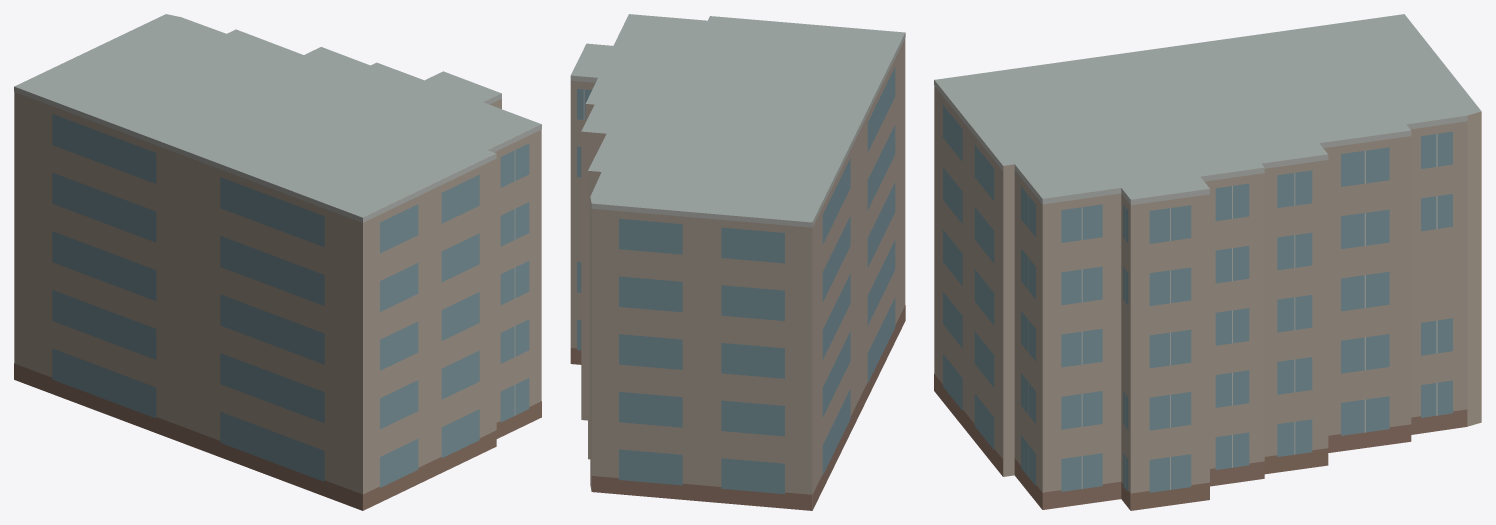
Rendered from survey-upis-32662122.glb.
3 renders of one model, left to right at view 1: azimuth 30°, elevation 25°; view 2: azimuth 150°, elevation 25°; view 3: azimuth 270°, elevation 25°, orthographic. The views are drawn at different scales.
Parts seen in each view (by area): view 1: survey-upis-32662122.tmp; view 2: survey-upis-32662122.tmp; view 3: survey-upis-32662122.tmp.
Part boxes in pixels (left/top/right/bottom): survey-upis-32662122.tmp: left=14, top=14, right=541, bottom=510; survey-upis-32662122.tmp: left=570, top=14, right=905, bottom=510; survey-upis-32662122.tmp: left=934, top=14, right=1481, bottom=510.
Bounding box in the file's own units: 17.55 × 13.7 × 21.86.
